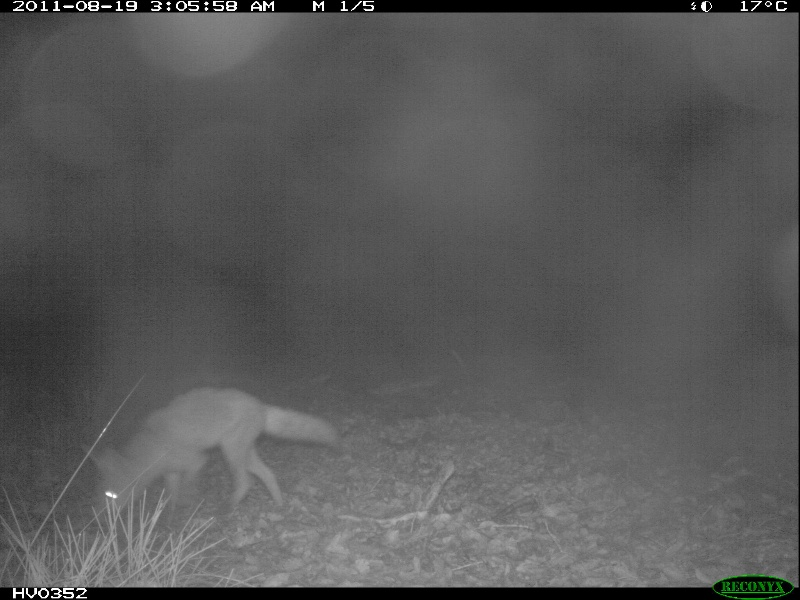fox: (83, 381, 342, 530)
